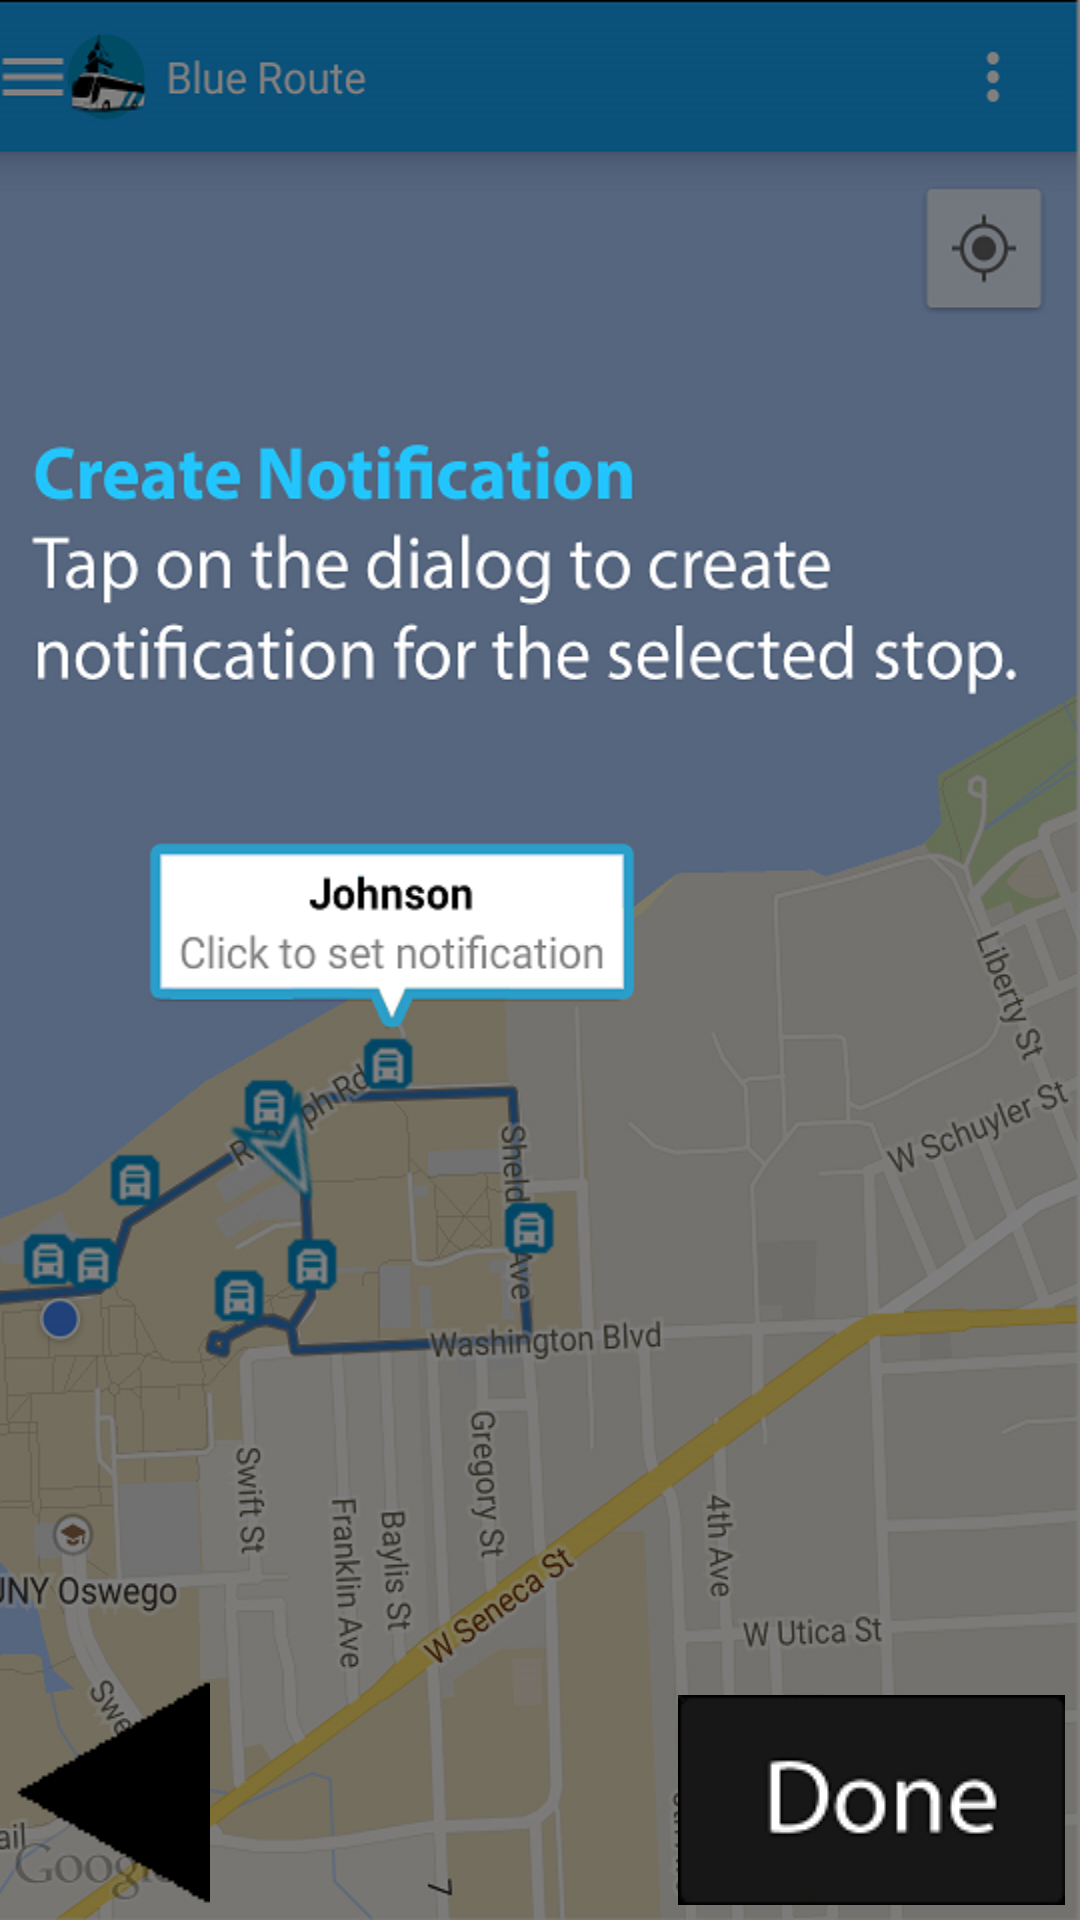

Where to tap for icons on this 1080x1920 app screen, as [x,y]:
back: [112,1792]
